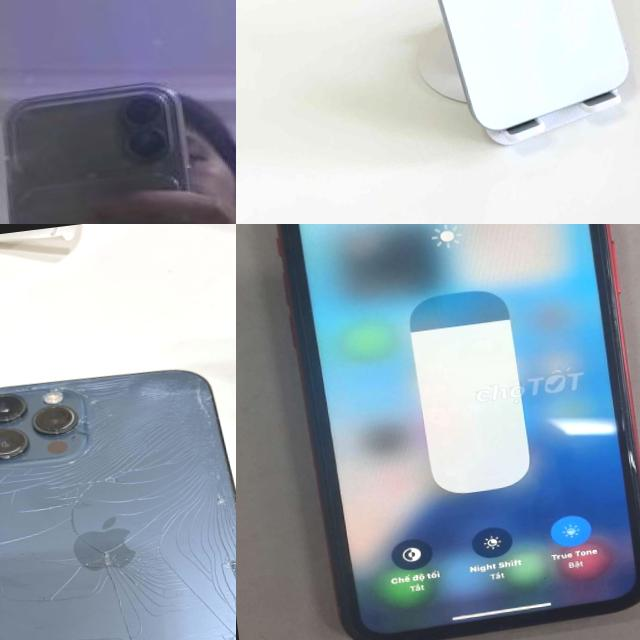gen_12_13: (0, 350, 236, 640), (0, 0, 236, 224)
gen_15: (362, 0, 640, 138)
gen_x_xs: (269, 224, 640, 640)
